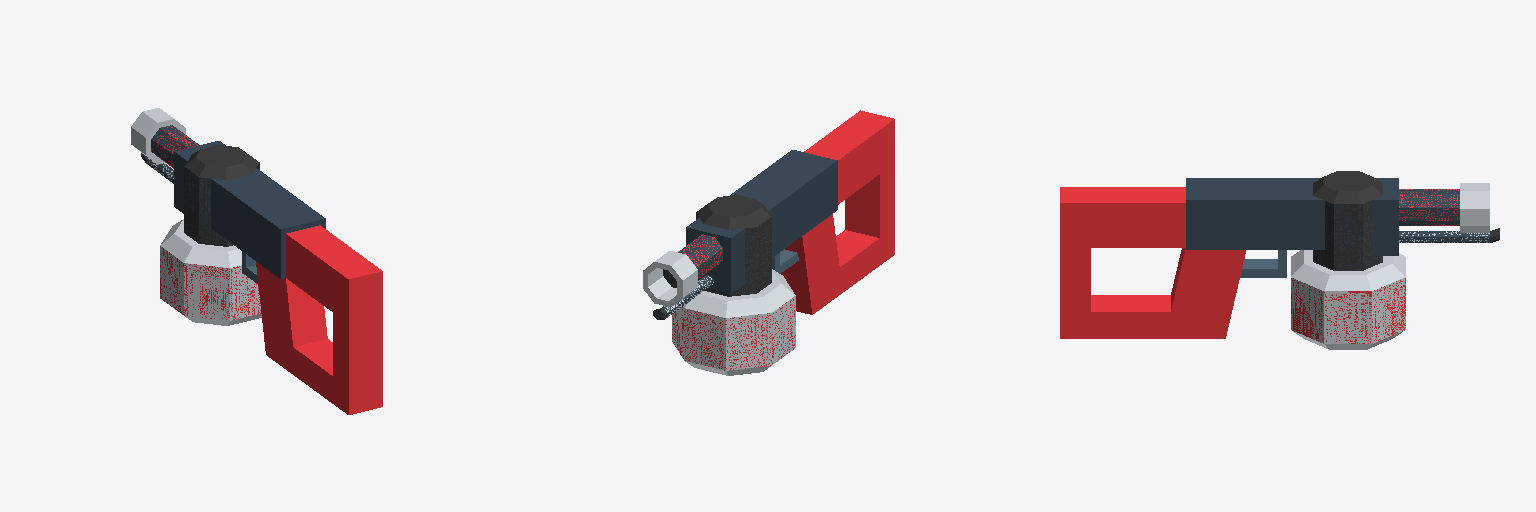
The model's file is flamethrower_short.obj.
3 renders of one model, left to right at view 1: azimuth 30°, elevation 25°; view 2: azimuth 150°, elevation 25°; view 3: azimuth 270°, elevation 25°, orthographic.
Visible parts, largest first — view 1: Group; view 2: Group; view 3: Group.
Part boxes in pixels (bbox=[...]): Group: bbox=[131, 108, 382, 414]; Group: bbox=[643, 110, 894, 375]; Group: bbox=[1060, 171, 1499, 349].
Size of the model in its own units: 0.1441 by 0.2067 by 0.5494.